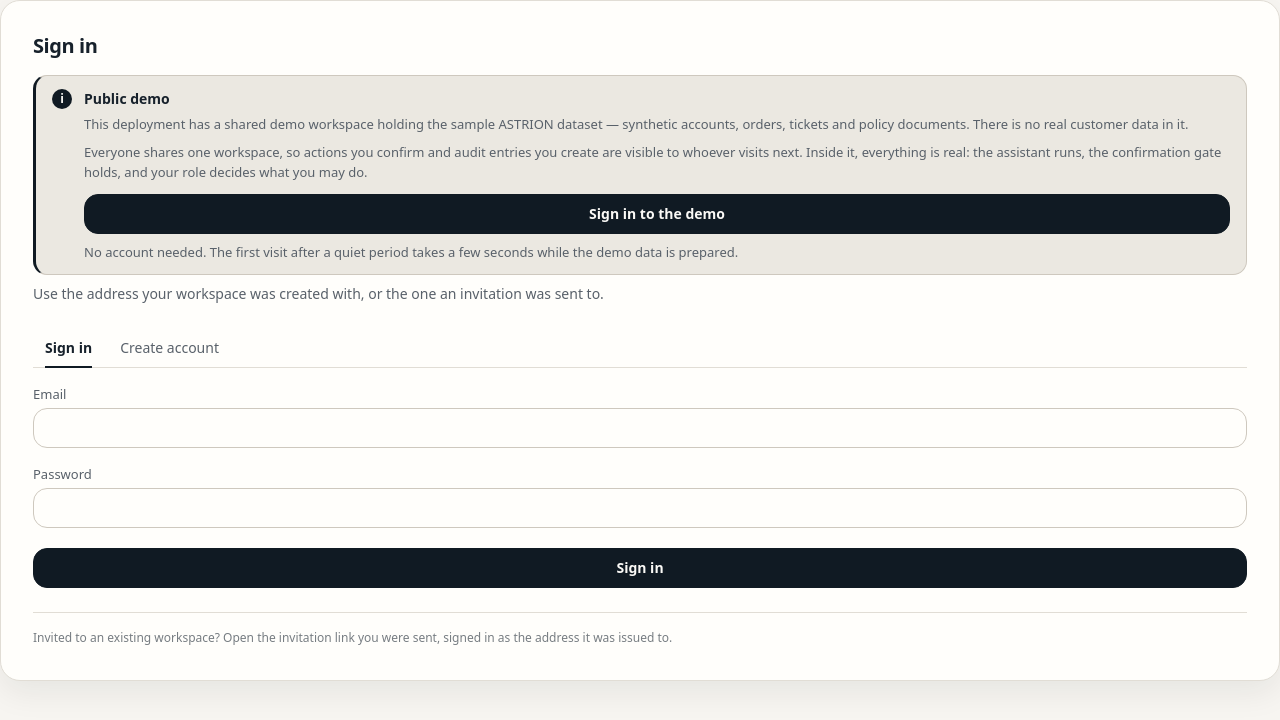
the public demo panel › says it is preparing while the backend builds the environment
The image size is (1280, 720).
Click the button "Sign in to the demo" at [657, 214], box [84,194,1230,234]
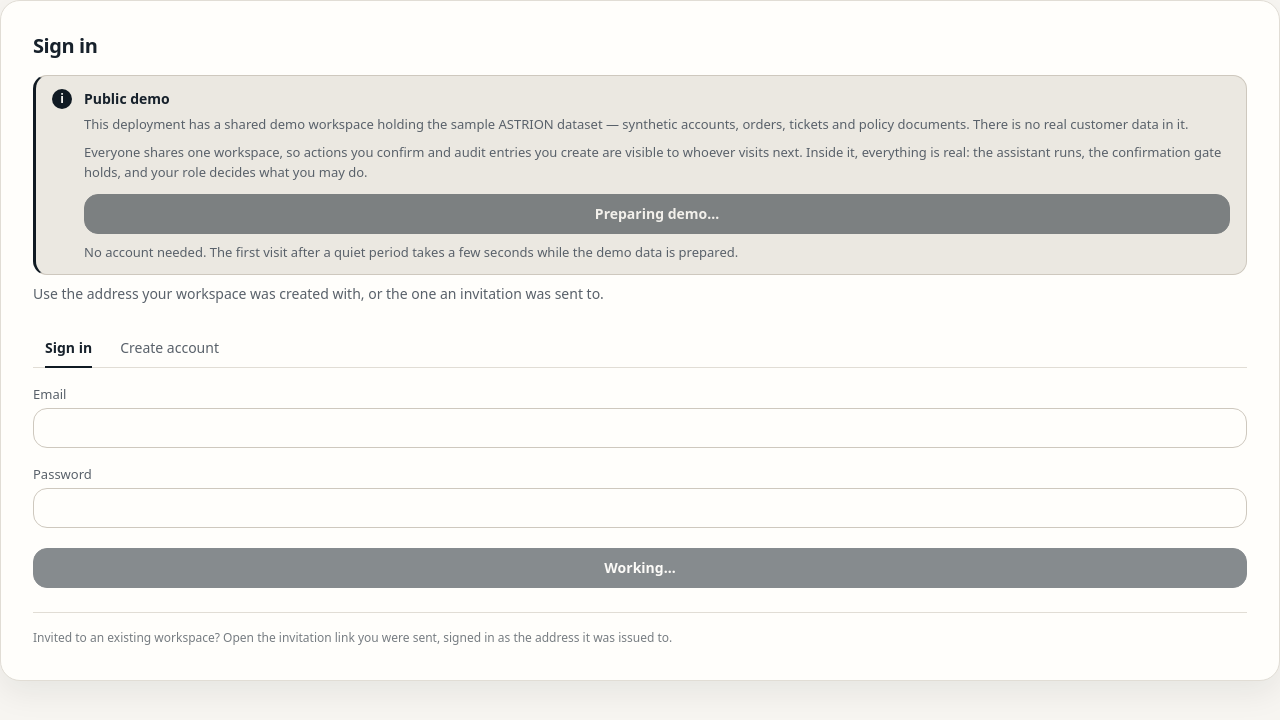
Check: the button "Preparing demo…" is disabled, box [84,194,1230,234]
